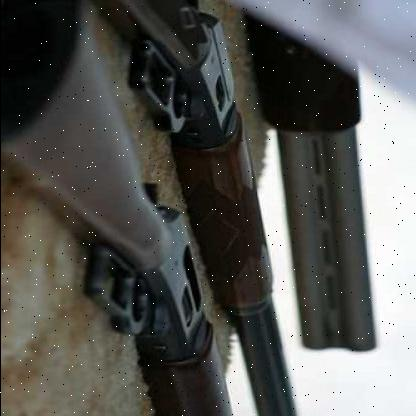rifle: (126, 5, 341, 409), (1, 122, 246, 415)
